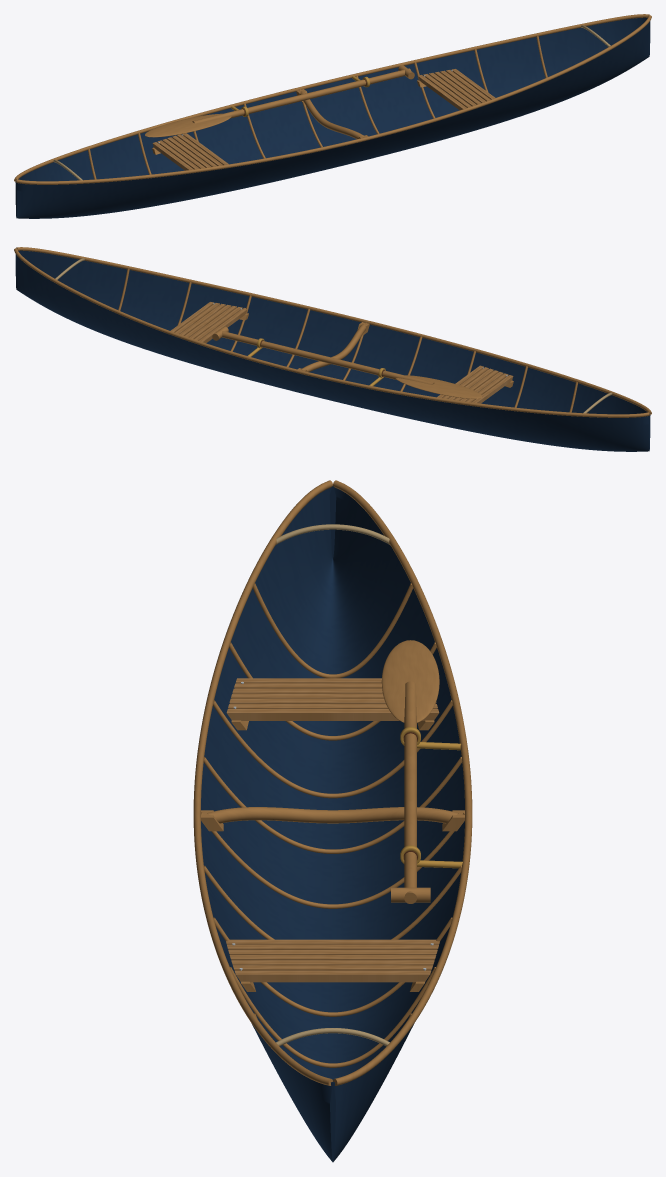
The model's file is canoe.glb.
3 views of the same model, one above another, from view 1: azimuth 30°, elevation 25°; view 2: azimuth 150°, elevation 25°; view 3: azimuth 270°, elevation 25° (orthographic). The views are drawn at different scales.
Visible parts, largest first — view 1: Original finite hollow hull, Continuous gunwale -1, Continuous gunwale 1, Retained canoe paddle continuous shaft, Retained canoe paddle curved aft blade, Curved carrying yoke, Seat 2 individual seat slat 1; view 2: Original finite hollow hull, Continuous gunwale 1, Continuous gunwale -1, Retained canoe paddle continuous shaft, Retained canoe paddle curved aft blade, Curved carrying yoke, Seat 2 individual seat slat 1; view 3: Original finite hollow hull, Continuous gunwale -1, Continuous gunwale 1, Retained canoe paddle curved aft blade, Curved carrying yoke, Retained canoe paddle continuous shaft, Seat 2 individual seat slat 7, Seat 1 individual seat slat 7, Canoe interior rib 3, Canoe interior rib 4, Canoe interior rib 5, Canoe interior rib 8 (+8 smaller).
Part boxes in pixels (left/top/right/bottom): Original finite hollow hull: left=15, top=17, right=650, bottom=218; Continuous gunwale -1: left=16, top=15, right=651, bottom=184; Continuous gunwale 1: left=14, top=14, right=649, bottom=181; Retained canoe paddle continuous shaft: left=192, top=68, right=410, bottom=123; Retained canoe paddle curved aft blade: left=145, top=113, right=231, bottom=137; Curved carrying yoke: left=300, top=91, right=364, bottom=139; Seat 2 individual seat slat 1: left=418, top=75, right=466, bottom=110; Original finite hollow hull: left=15, top=250, right=650, bottom=451; Continuous gunwale 1: left=14, top=248, right=649, bottom=417; Continuous gunwale -1: left=16, top=247, right=651, bottom=414; Retained canoe paddle continuous shaft: left=216, top=330, right=434, bottom=384; Retained canoe paddle curved aft blade: left=395, top=375, right=482, bottom=398; Curved carrying yoke: left=301, top=324, right=366, bottom=372; Seat 2 individual seat slat 1: left=199, top=308, right=247, bottom=343; Original finite hollow hull: left=201, top=486, right=464, bottom=1162; Continuous gunwale -1: left=193, top=480, right=332, bottom=1085; Continuous gunwale 1: left=333, top=480, right=472, bottom=1085; Retained canoe paddle curved aft blade: left=381, top=640, right=439, bottom=722; Curved carrying yoke: left=207, top=807, right=458, bottom=823; Retained canoe paddle continuous shaft: left=404, top=681, right=416, bottom=903; Seat 2 individual seat slat 7: left=234, top=970, right=431, bottom=982; Seat 1 individual seat slat 7: left=226, top=709, right=439, bottom=720; Canoe interior rib 3: left=213, top=700, right=452, bottom=798; Canoe interior rib 4: left=203, top=757, right=462, bottom=853; Canoe interior rib 5: left=201, top=812, right=464, bottom=908; Canoe interior rib 8: left=230, top=967, right=435, bottom=1067.
Bounding box in the file's own units: 4.82 × 0.5089 × 0.915.
Materials: 7 (7 with a texture image).
